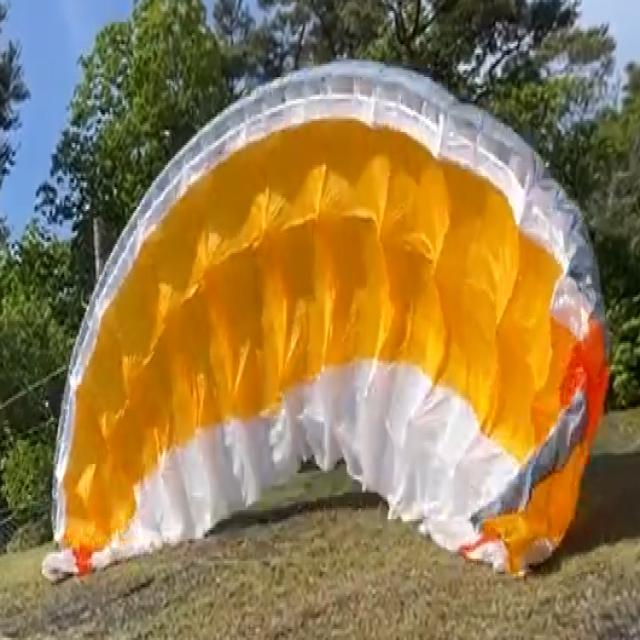paraglider: (43, 55, 611, 585)
